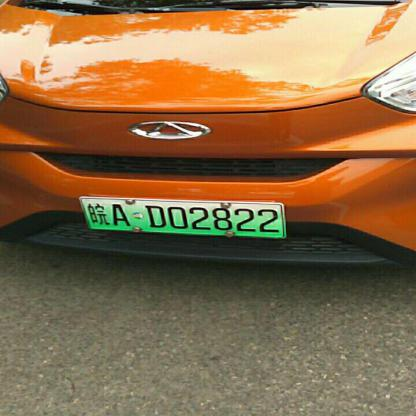lp: (81, 198, 285, 236)
